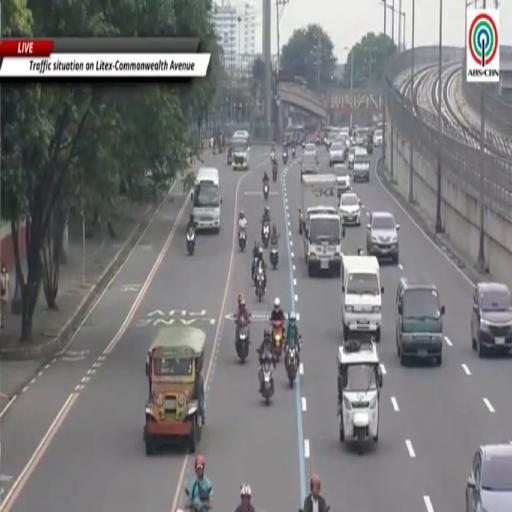car: (396, 278, 445, 364), (466, 443, 511, 511), (471, 282, 511, 357), (367, 212, 399, 264), (340, 192, 360, 226), (334, 164, 351, 199), (330, 142, 345, 166), (303, 143, 317, 158), (348, 146, 355, 168), (374, 130, 383, 147)
jeepney: (144, 326, 205, 455), (338, 336, 383, 454)
motorcycle: (284, 347, 299, 388), (261, 358, 274, 405), (236, 324, 250, 363), (272, 322, 283, 361), (255, 267, 264, 301), (186, 230, 195, 255), (262, 222, 270, 248), (185, 503, 211, 511), (238, 229, 247, 252), (270, 246, 278, 269), (252, 256, 258, 285), (263, 182, 269, 201), (227, 148, 232, 165), (272, 167, 277, 183), (272, 159, 278, 171), (283, 152, 287, 165), (271, 151, 275, 162), (301, 141, 305, 150), (292, 147, 295, 158), (325, 506, 330, 511)
truck: (300, 174, 344, 277)
